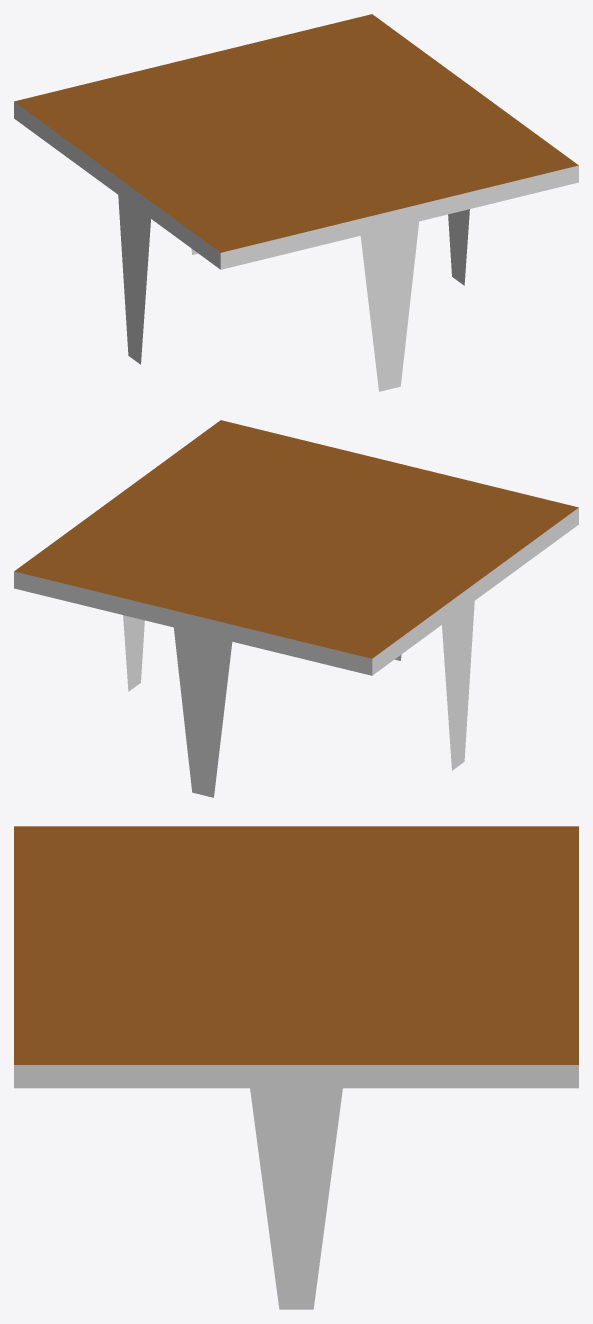
Rendered from DockAIntersect.fbx.
The picture shows the model from 3 angles, top to bottom: view 1: azimuth 30°, elevation 25°; view 2: azimuth 150°, elevation 25°; view 3: azimuth 270°, elevation 25°; orthographic projection. The views are drawn at different scales.
Parts seen in each view (by area): view 1: DockAIntersectA; view 2: DockAIntersectA; view 3: DockAIntersectA.
Boxes of the visible parts, <box> form: DockAIntersectA: <box>14,14,578,391</box>; DockAIntersectA: <box>14,420,578,797</box>; DockAIntersectA: <box>14,826,578,1309</box>.
Size of the model in its own units: 550 by 275 by 550.
1 material, 1 textured.
